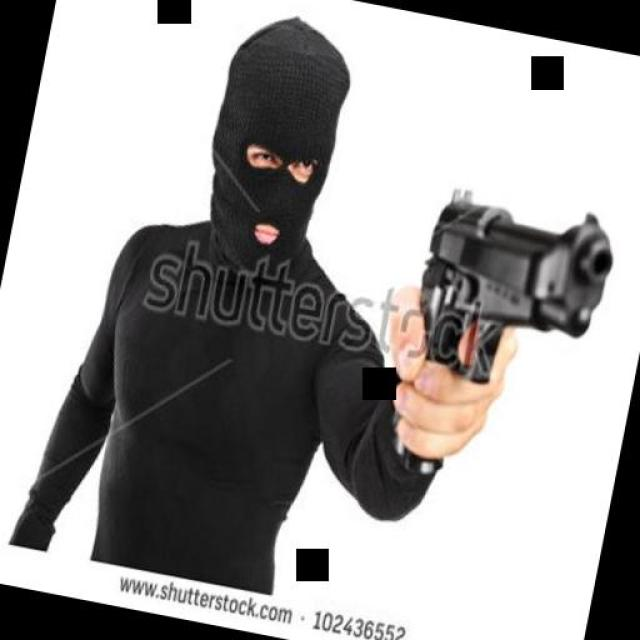gun: (382, 174, 622, 496)
